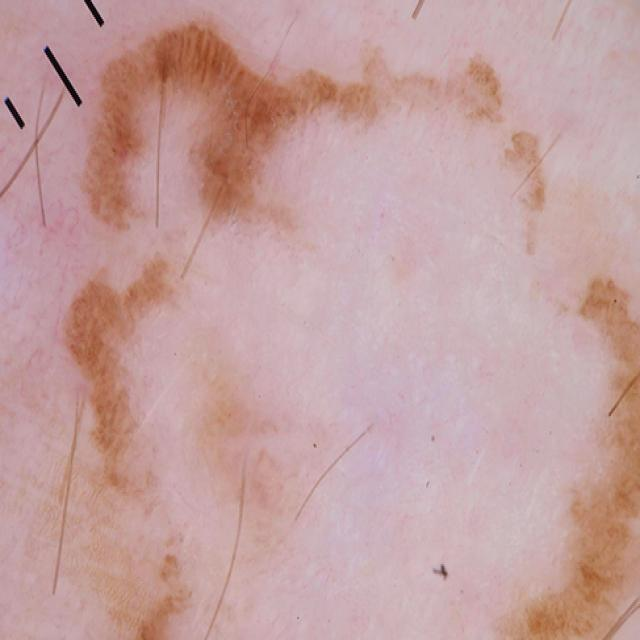Keratosis: (55, 45, 333, 316), (464, 269, 640, 640), (79, 442, 236, 640)
